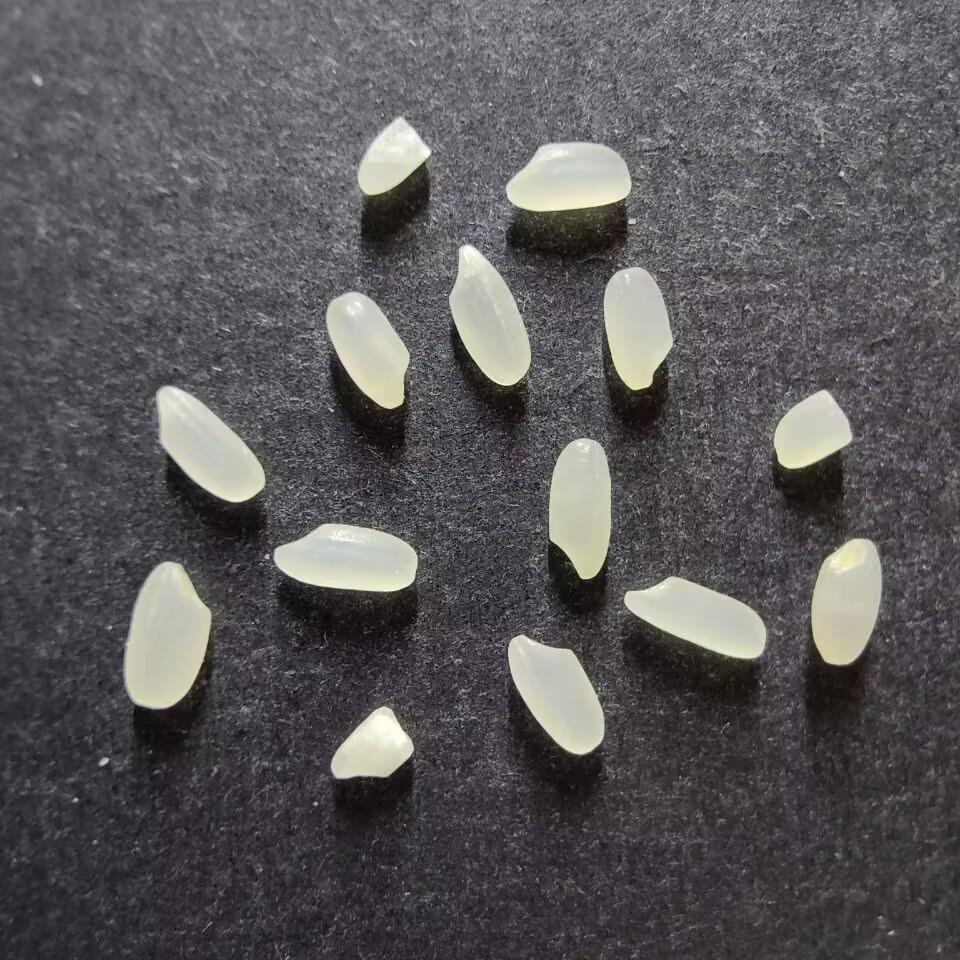broken: (772, 389, 852, 468), (329, 706, 414, 779), (357, 116, 432, 195)
rice: (122, 561, 212, 708), (156, 385, 266, 502), (506, 633, 605, 754), (447, 244, 530, 385), (624, 577, 766, 659), (324, 292, 411, 409), (273, 522, 418, 592), (547, 438, 611, 580), (810, 538, 881, 665), (505, 142, 632, 211), (603, 266, 672, 390)
